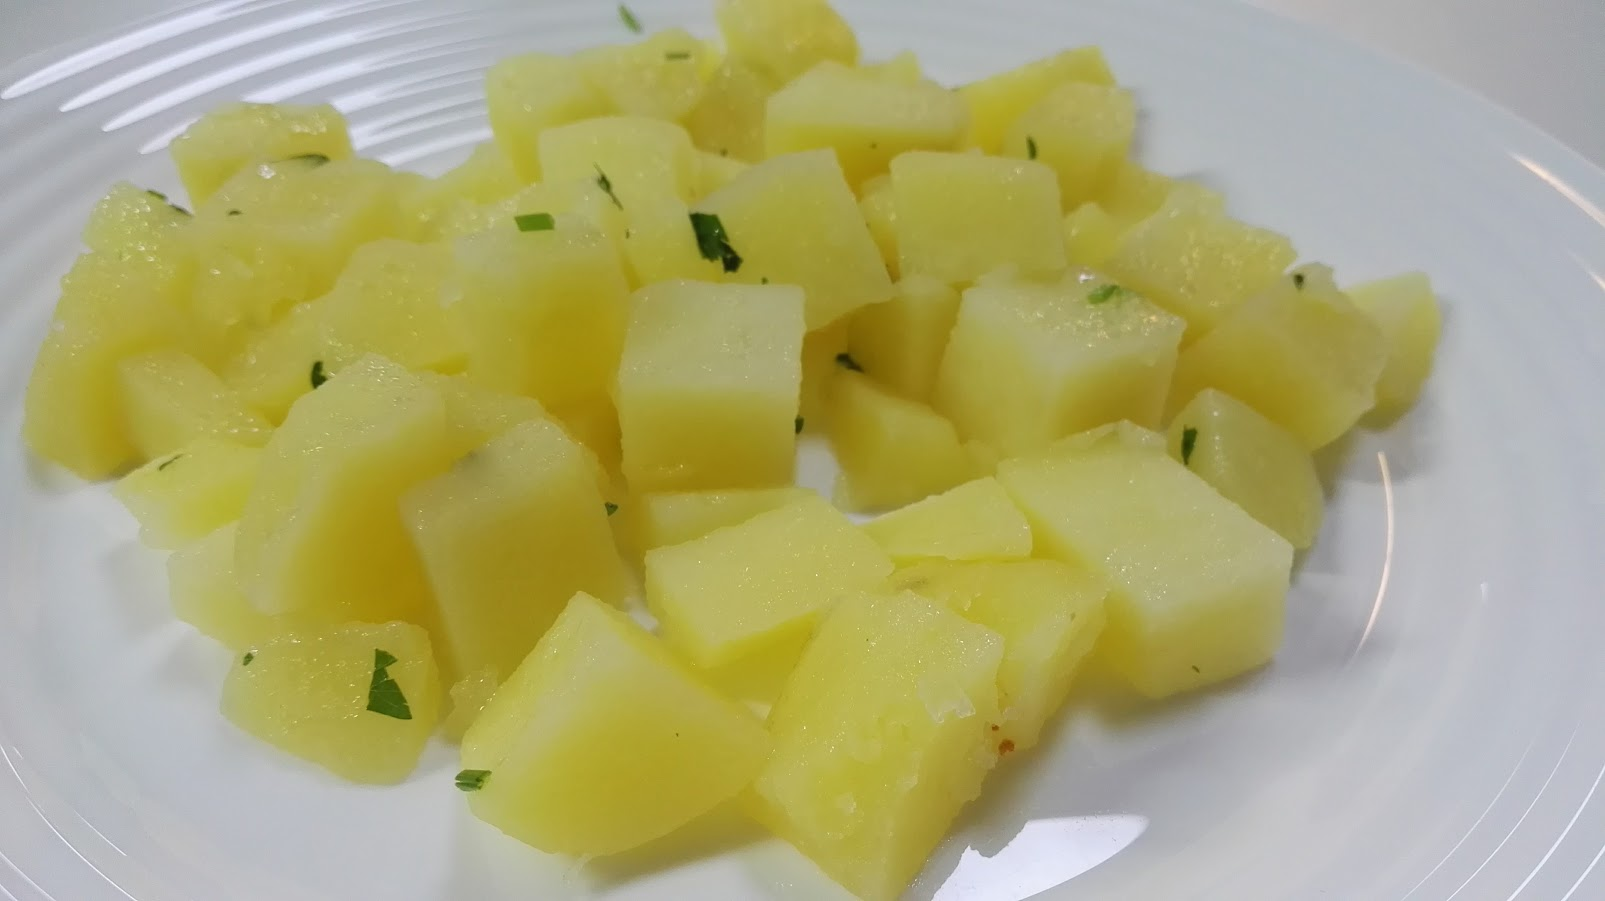boiled potatoes: (75, 45, 1387, 843)
